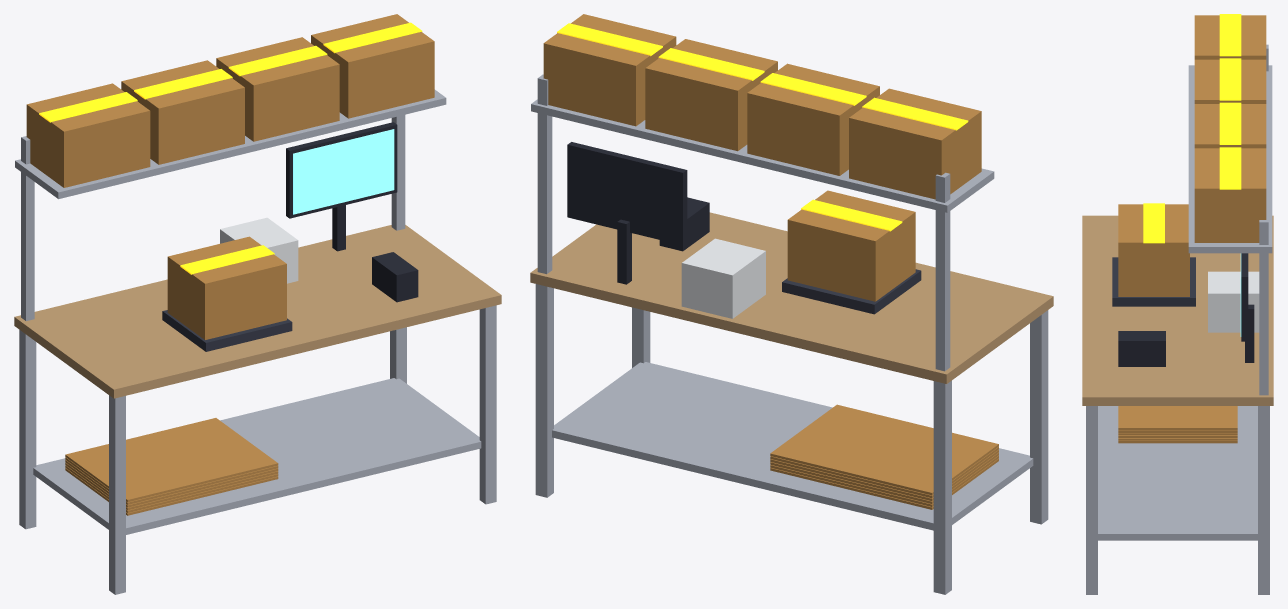
File: lgx-008.glb
3 renders of one model, left to right at view 1: azimuth 30°, elevation 25°; view 2: azimuth 150°, elevation 25°; view 3: azimuth 270°, elevation 25°, orthographic. The views are drawn at different scales.
Visible parts, largest first — view 1: pastry, steel, oak, pump_screen, sign_yellow, plastic_dark, white, dark_steel; view 2: pastry, steel, oak, plastic_dark, sign_yellow, white, dark_steel; view 3: steel, pastry, oak, sign_yellow, plastic_dark, white, dark_steel.
Part boxes in pixels (x1,y1,x2,y2): pastry: (26,14,434,515); steel: (15,89,496,594); oak: (14,225,501,398); pump_screen: (293,129,394,214); sign_yellow: (39,22,422,274); plastic_dark: (286,122,418,302); white: (220,217,298,283); dark_steel: (162,310,292,351); pastry: (543,14,998,509); steel: (531,74,1048,594); oak: (530,212,1053,383); plastic_dark: (567,142,709,284); sign_yellow: (557,23,968,231); white: (681,238,765,318); dark_steel: (782,269,921,314); steel: (1086,44,1272,594); pastry: (1118,15,1266,443); oak: (1082,215,1273,405); sign_yellow: (1143,14,1241,243); plastic_dark: (1118,253,1254,366); white: (1208,271,1259,332); dark_steel: (1112,257,1195,306).
Size of the model in its own units: 1.8 by 1.87 by 0.8.
